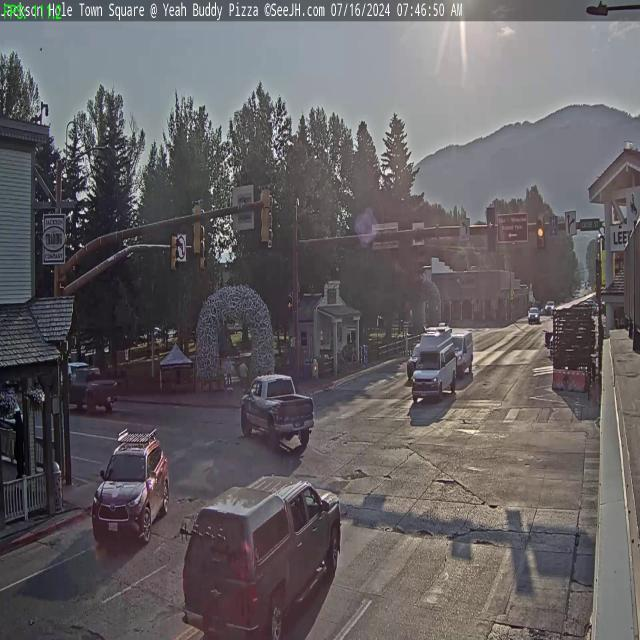pickup: (240, 373, 314, 454), (65, 363, 121, 410)
suv: (177, 470, 345, 639), (91, 426, 171, 553), (527, 305, 541, 323)
traffic light: (260, 183, 272, 244), (191, 198, 203, 255), (486, 206, 497, 253), (170, 235, 180, 272), (536, 214, 544, 248)
van: (411, 335, 458, 403)
